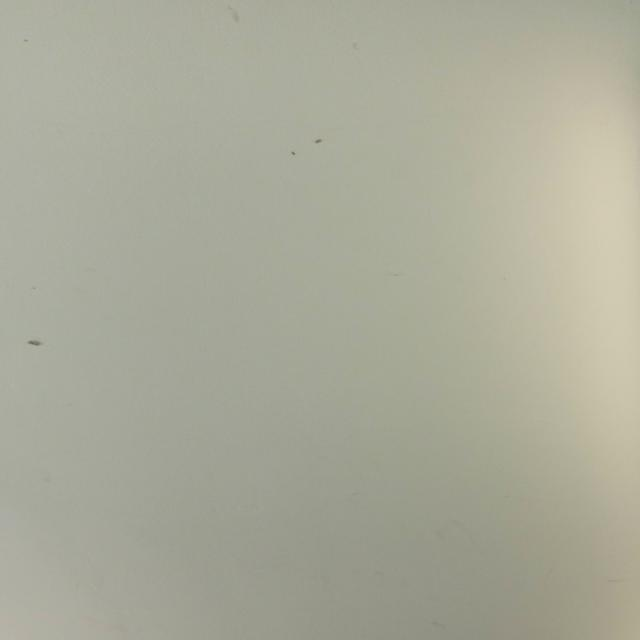fluorescent tube: (619, 3, 640, 640)
